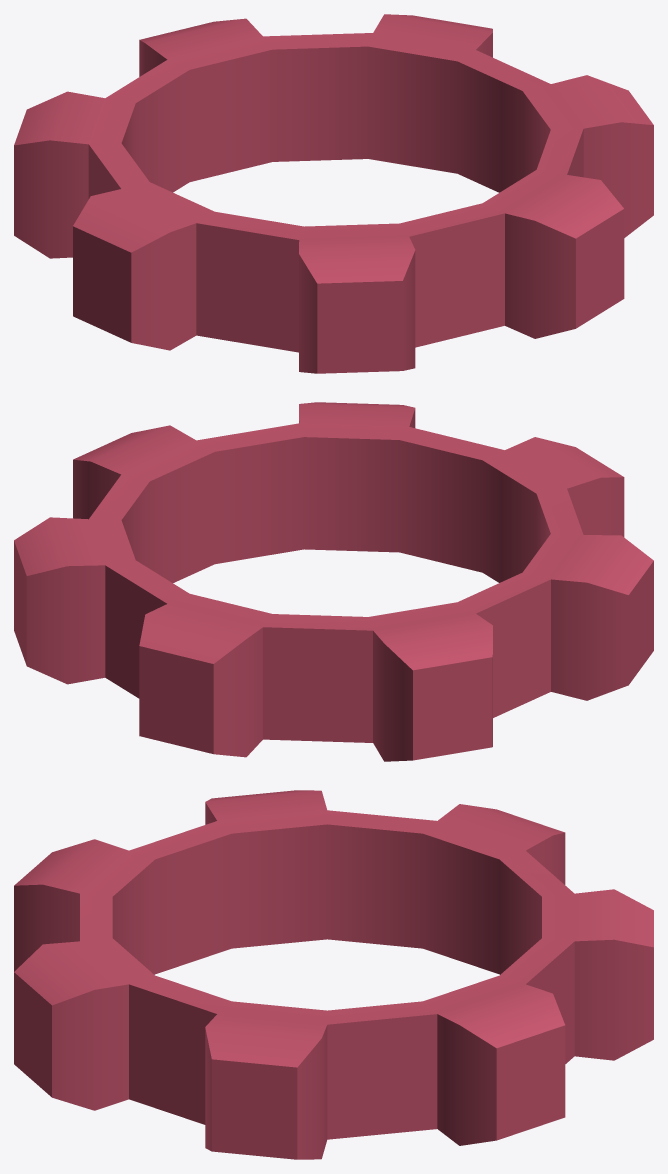
The model's file is gear_B.FBX.
The picture shows the model from 3 angles, top to bottom: view 1: azimuth 30°, elevation 25°; view 2: azimuth 150°, elevation 25°; view 3: azimuth 270°, elevation 25°; orthographic projection. The views are drawn at different scales.
Visible parts, largest first — view 1: pillar_gearB; view 2: pillar_gearB; view 3: pillar_gearB.
Part boxes in pixels (bbox=[...]): pillar_gearB: bbox=[14, 14, 653, 373]; pillar_gearB: bbox=[14, 402, 653, 761]; pillar_gearB: bbox=[14, 790, 653, 1159].
Bounding box in the file's own units: 10.35 × 2.1 × 10.09.
